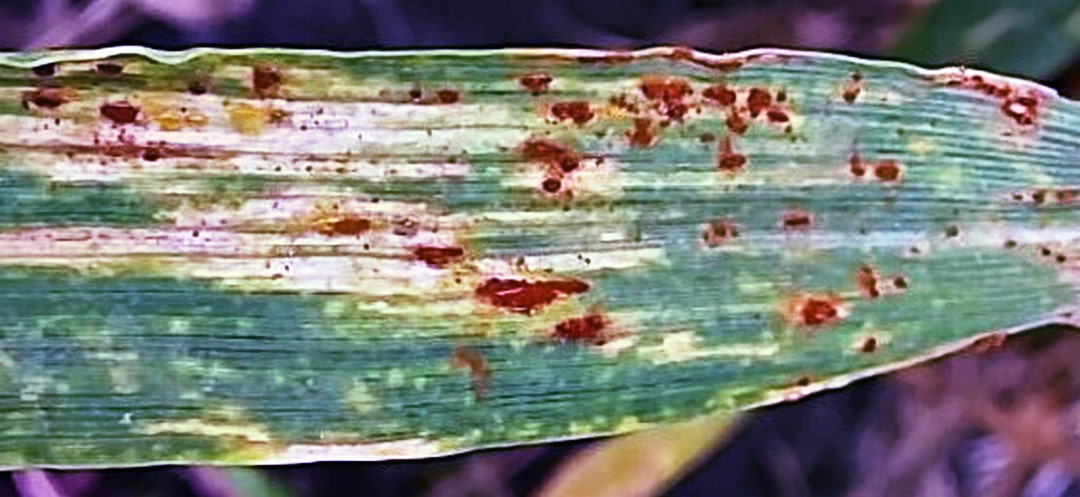Leaf Rust: (220, 41, 960, 428)
